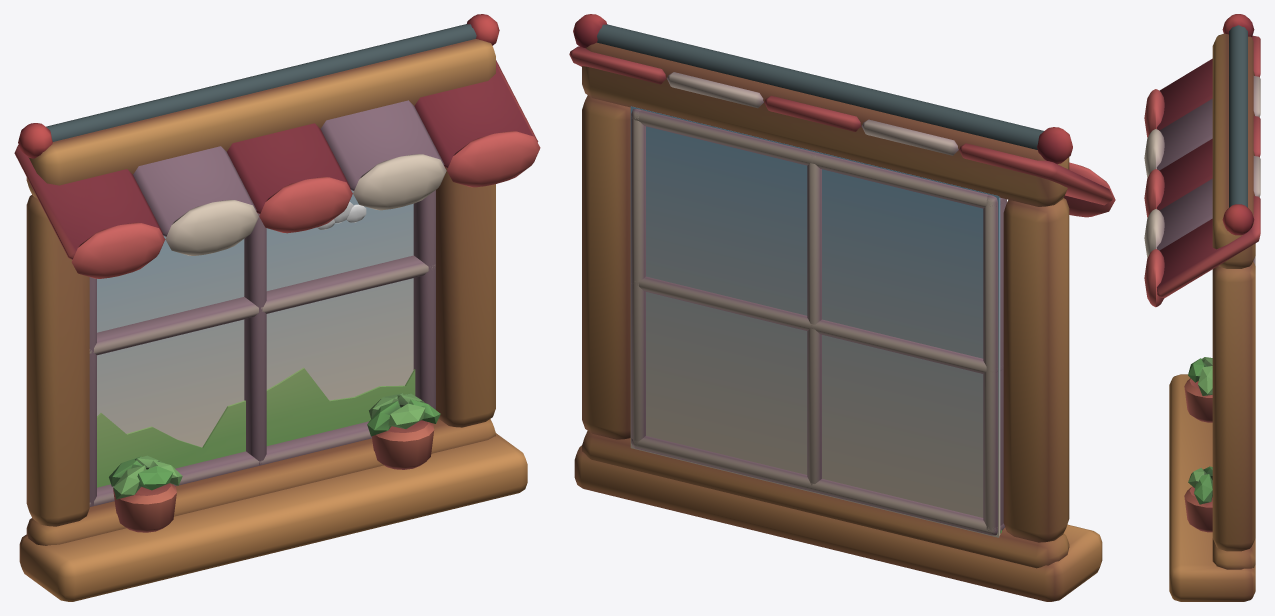
The model's file is window_classic.glb.
3 views of the same model, side by side, from view 1: azimuth 30°, elevation 25°; view 2: azimuth 150°, elevation 25°; view 3: azimuth 270°, elevation 25° (orthographic). The views are drawn at different scales.
Visible parts, largest first — view 1: window_classic, window_classic_glass; view 2: window_classic, window_classic_glass; view 3: window_classic.
Part boxes in pixels (x1,y1,x2,y2): window_classic: [14, 14, 540, 601]; window_classic_glass: [97, 190, 415, 487]; window_classic: [569, 14, 1115, 601]; window_classic_glass: [630, 106, 1001, 537]; window_classic: [1144, 14, 1260, 601].
Size of the model in its own units: 1.66 by 1.52 by 0.4028.
